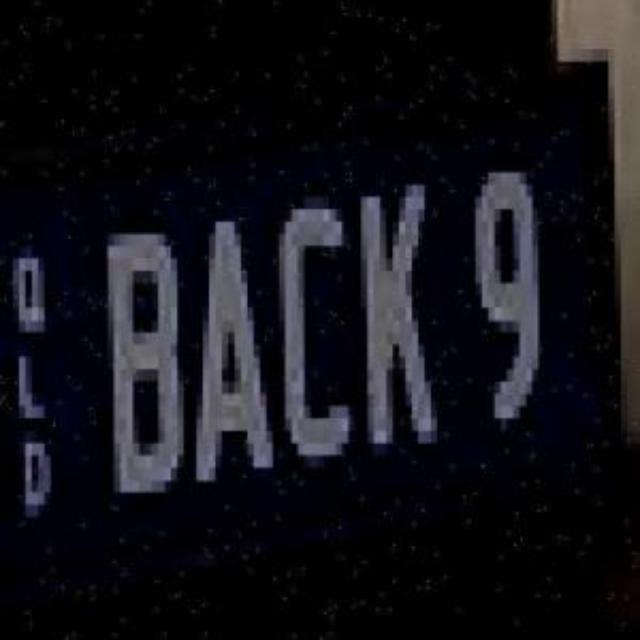License Plate: (5, 131, 640, 623), (428, 290, 472, 344)
